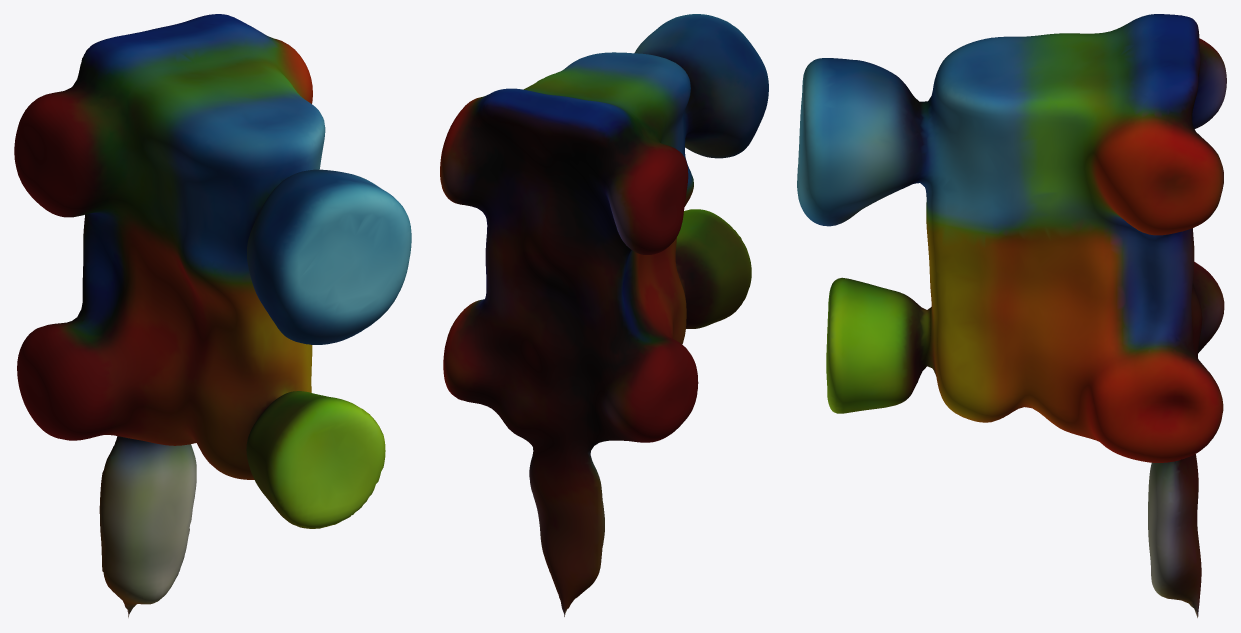
File: train.glb
3 renders of one model, left to right at view 1: azimuth 30°, elevation 25°; view 2: azimuth 150°, elevation 25°; view 3: azimuth 270°, elevation 25°, orthographic. The views are drawn at different scales.
Size of the model in its own units: 0.4614 by 0.9989 by 0.6598.
